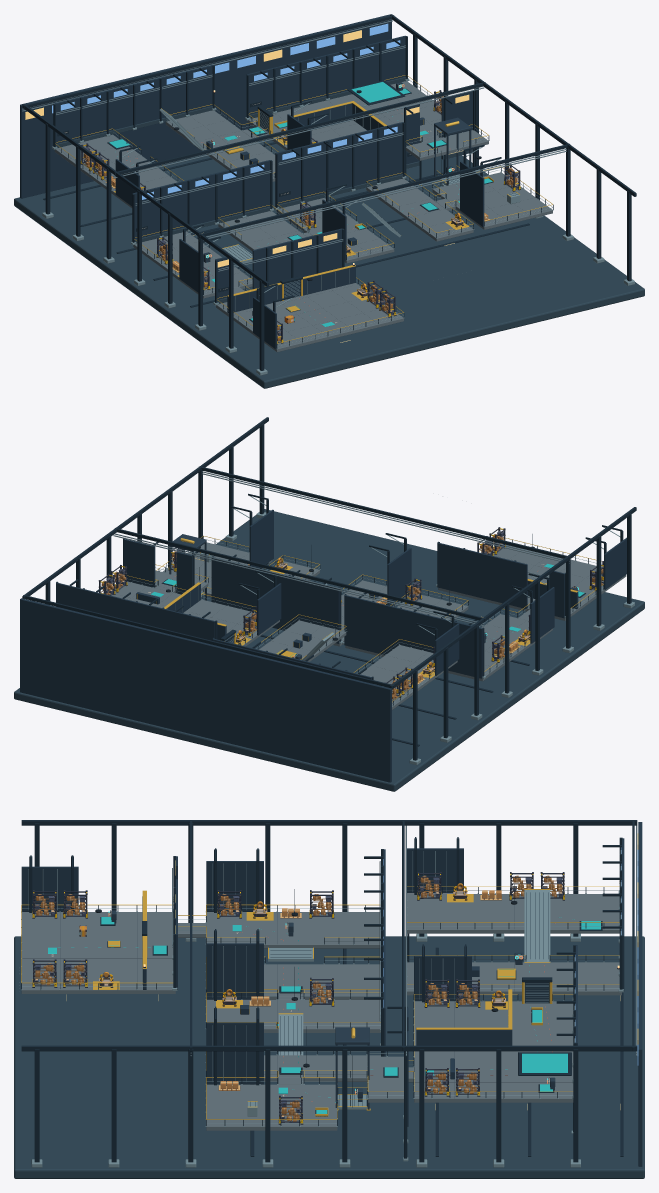
The model's file is C1_CourierHub.fbx.
The picture shows the model from 3 angles, top to bottom: view 1: azimuth 30°, elevation 25°; view 2: azimuth 150°, elevation 25°; view 3: azimuth 270°, elevation 25°; orthographic projection. The views are drawn at different scales.
Parts seen in each view (by area): view 1: C1_CourierHub_ContinuousBuildingFoundation, C1_CourierHub_FarBuildingWall, C1_Z3_BackEnclosure_0, C1_Z5_BackEnclosure_0, C1_Z6_BackEnclosure_0, C1_F01, C1_Z2_BackEnclosure_0, C1_F05, C1_Z1_BackEnclosure_1, C1_F06A, C1_F04, C1_F03B (+32 smaller); view 2: C1_CourierHub_FarBuildingWall, C1_CourierHub_ContinuousBuildingFoundation, C1_Z2_BackEnclosure_0, C1_Z3_BackEnclosure_0, C1_Z1_BackEnclosure_1, C1_Z5_BackEnclosure_0, C1_F01, C1_F05, C1_F06B, C1_CourierHub_CrossRoofGirder_2, C1_CourierHub_CrossRoofGirder_0, C1_CourierHub_CrossRoofGirder_1 (+22 smaller); view 3: C1_CourierHub_ContinuousBuildingFoundation, C1_F01, C1_F05, C1_F06B, C1_F02A, C1_F04, C1_CourierHub_LongRoofGirder_34.7, C1_F06A, C1_F03A, C1_CourierHub_LongRoofGirder_-34.7, C1_F02B, C1_Z4_SideReturn (+43 smaller).
Boxes of the visible parts, left/top/right/bottom form: C1_CourierHub_ContinuousBuildingFoundation: left=14, top=139, right=644, bottom=388; C1_CourierHub_FarBuildingWall: left=20, top=14, right=391, bottom=198; C1_Z3_BackEnclosure_0: left=275, top=122, right=402, bottom=204; C1_Z5_BackEnclosure_0: left=246, top=35, right=405, bottom=114; C1_Z6_BackEnclosure_0: left=53, top=65, right=212, bottom=143; C1_F01: left=216, top=283, right=403, bottom=352; C1_Z2_BackEnclosure_0: left=132, top=160, right=270, bottom=239; C1_F05: left=247, top=81, right=441, bottom=150; C1_Z1_BackEnclosure_1: left=252, top=228, right=342, bottom=289; C1_F06A: left=165, top=110, right=275, bottom=181; C1_F04: left=432, top=172, right=552, bottom=229; C1_F03B: left=366, top=179, right=473, bottom=241; C1_CourierHub_FarBuildingWall: left=20, top=598, right=391, bottom=782; C1_CourierHub_ContinuousBuildingFoundation: left=14, top=509, right=644, bottom=791; C1_Z2_BackEnclosure_0: left=344, top=595, right=482, bottom=678; C1_Z3_BackEnclosure_0: left=212, top=557, right=339, bottom=643; C1_Z1_BackEnclosure_1: left=437, top=542, right=527, bottom=608; C1_Z5_BackEnclosure_0: left=56, top=582, right=215, bottom=640; C1_F01: left=438, top=545, right=626, bottom=620; C1_F05: left=103, top=581, right=279, bottom=646; C1_F06B: left=360, top=645, right=457, bottom=709; C1_CourierHub_CrossRoofGirder_2: left=23, top=595, right=394, bottom=688; C1_CourierHub_CrossRoofGirder_0: left=201, top=467, right=570, bottom=559; C1_CourierHub_CrossRoofGirder_1: left=117, top=528, right=485, bottom=621; C1_CourierHub_ContinuousBuildingFoundation: left=14, top=936, right=644, bottom=1178; C1_F01: left=21, top=912, right=175, bottom=993; C1_F05: left=414, top=1001, right=573, bottom=1102; C1_F06B: left=407, top=894, right=619, bottom=933; C1_F02A: left=206, top=912, right=380, bottom=948; C1_F04: left=206, top=1084, right=337, bottom=1130; C1_CourierHub_LongRoofGirder_34.7: left=21, top=1045, right=637, bottom=1051; C1_F06A: left=407, top=962, right=621, bottom=995; C1_F03A: left=206, top=1000, right=380, bottom=1032; C1_CourierHub_LongRoofGirder_-34.7: left=21, top=820, right=637, bottom=825; C1_F02B: left=207, top=964, right=380, bottom=999; C1_Z4_SideReturn: left=206, top=1022, right=263, bottom=1084.
Bounding box in the file's own units: 7200 × 1855 × 8200.
Materials: 36 (3 with a texture image).
